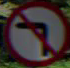Don't turn left: (5, 10, 62, 56)
